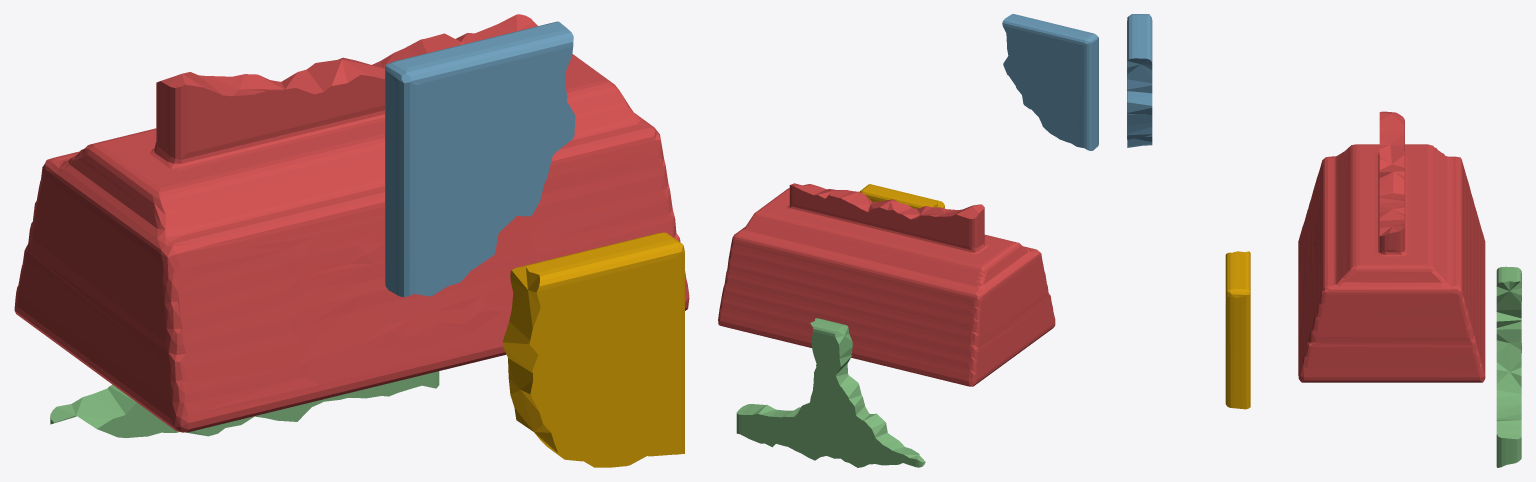
File: fractured_35_4pcs_transformed.glb
The picture shows the model from 3 angles, left to right: view 1: azimuth 30°, elevation 25°; view 2: azimuth 150°, elevation 25°; view 3: azimuth 270°, elevation 25°; orthographic projection. The views are drawn at different scales.
Parts seen in each view (by area): view 1: piece_1.obj, piece_2.obj, piece_0.obj, piece_3.obj; view 2: piece_1.obj, piece_3.obj, piece_2.obj, piece_0.obj; view 3: piece_1.obj, piece_3.obj, piece_0.obj, piece_2.obj.
Part boxes in pixels (box(x1,y1,x2,y2)): piece_1.obj: box(14, 14, 689, 432); piece_2.obj: box(385, 21, 575, 297); piece_0.obj: box(502, 232, 684, 467); piece_3.obj: box(50, 371, 439, 438); piece_1.obj: box(718, 183, 1055, 386); piece_3.obj: box(736, 318, 925, 467); piece_2.obj: box(1002, 14, 1098, 150); piece_0.obj: box(859, 184, 944, 208); piece_1.obj: box(1298, 111, 1485, 382); piece_3.obj: box(1496, 266, 1521, 467); piece_0.obj: box(1225, 251, 1250, 409); piece_2.obj: box(1127, 14, 1152, 147).
Bounding box in the file's own units: 1 × 1.2 × 1.2.
